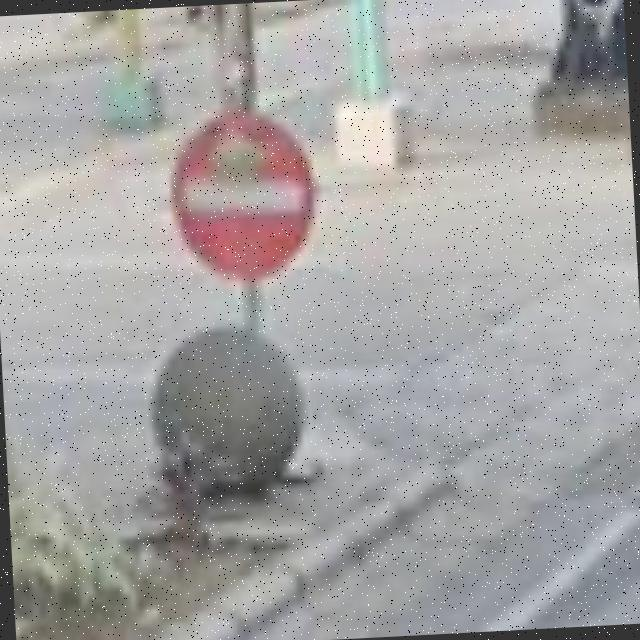Zakaz wjazdu: (170, 114, 316, 282)
